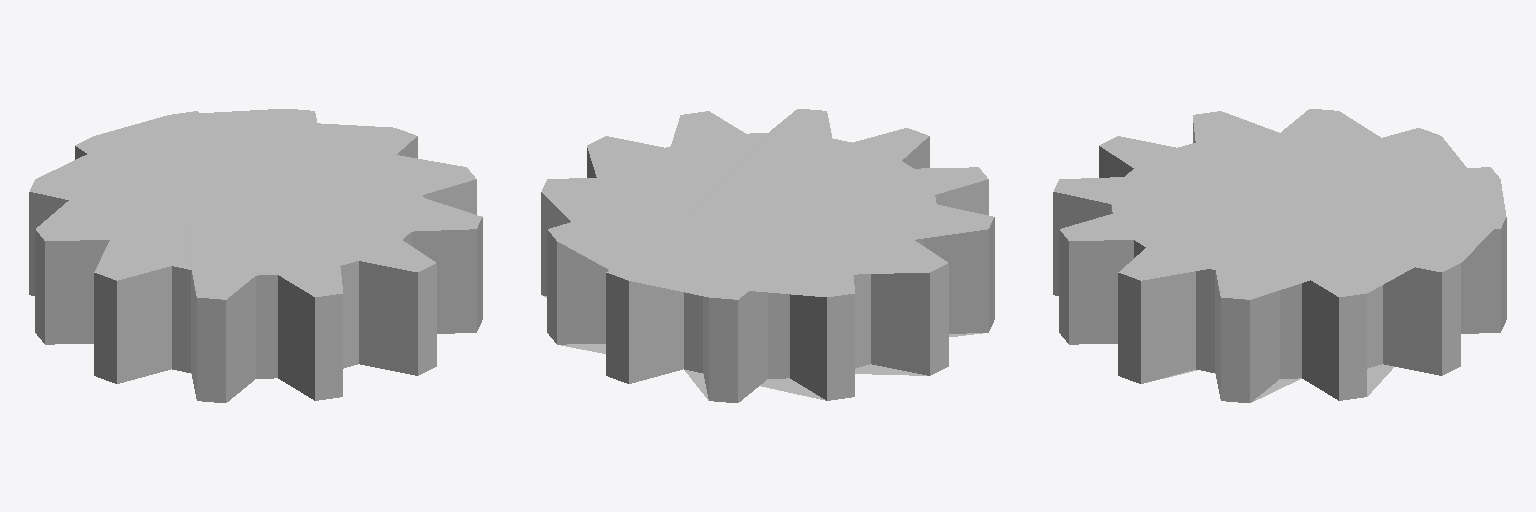
The model's file is CogModel1.obj.
3 views of the same model, side by side, from view 1: azimuth 30°, elevation 25°; view 2: azimuth 150°, elevation 25°; view 3: azimuth 270°, elevation 25° (orthographic).
Visible parts, largest first — view 1: Cylinder_Cylinder.001; view 2: Cylinder_Cylinder.001; view 3: Cylinder_Cylinder.001.
Boxes of the visible parts, x1,y1,x2,y2 form: Cylinder_Cylinder.001: [29, 109, 482, 402]; Cylinder_Cylinder.001: [541, 109, 994, 402]; Cylinder_Cylinder.001: [1053, 109, 1506, 402].
Bounding box in the file's own units: 0.9914 × 0.25 × 0.9914.